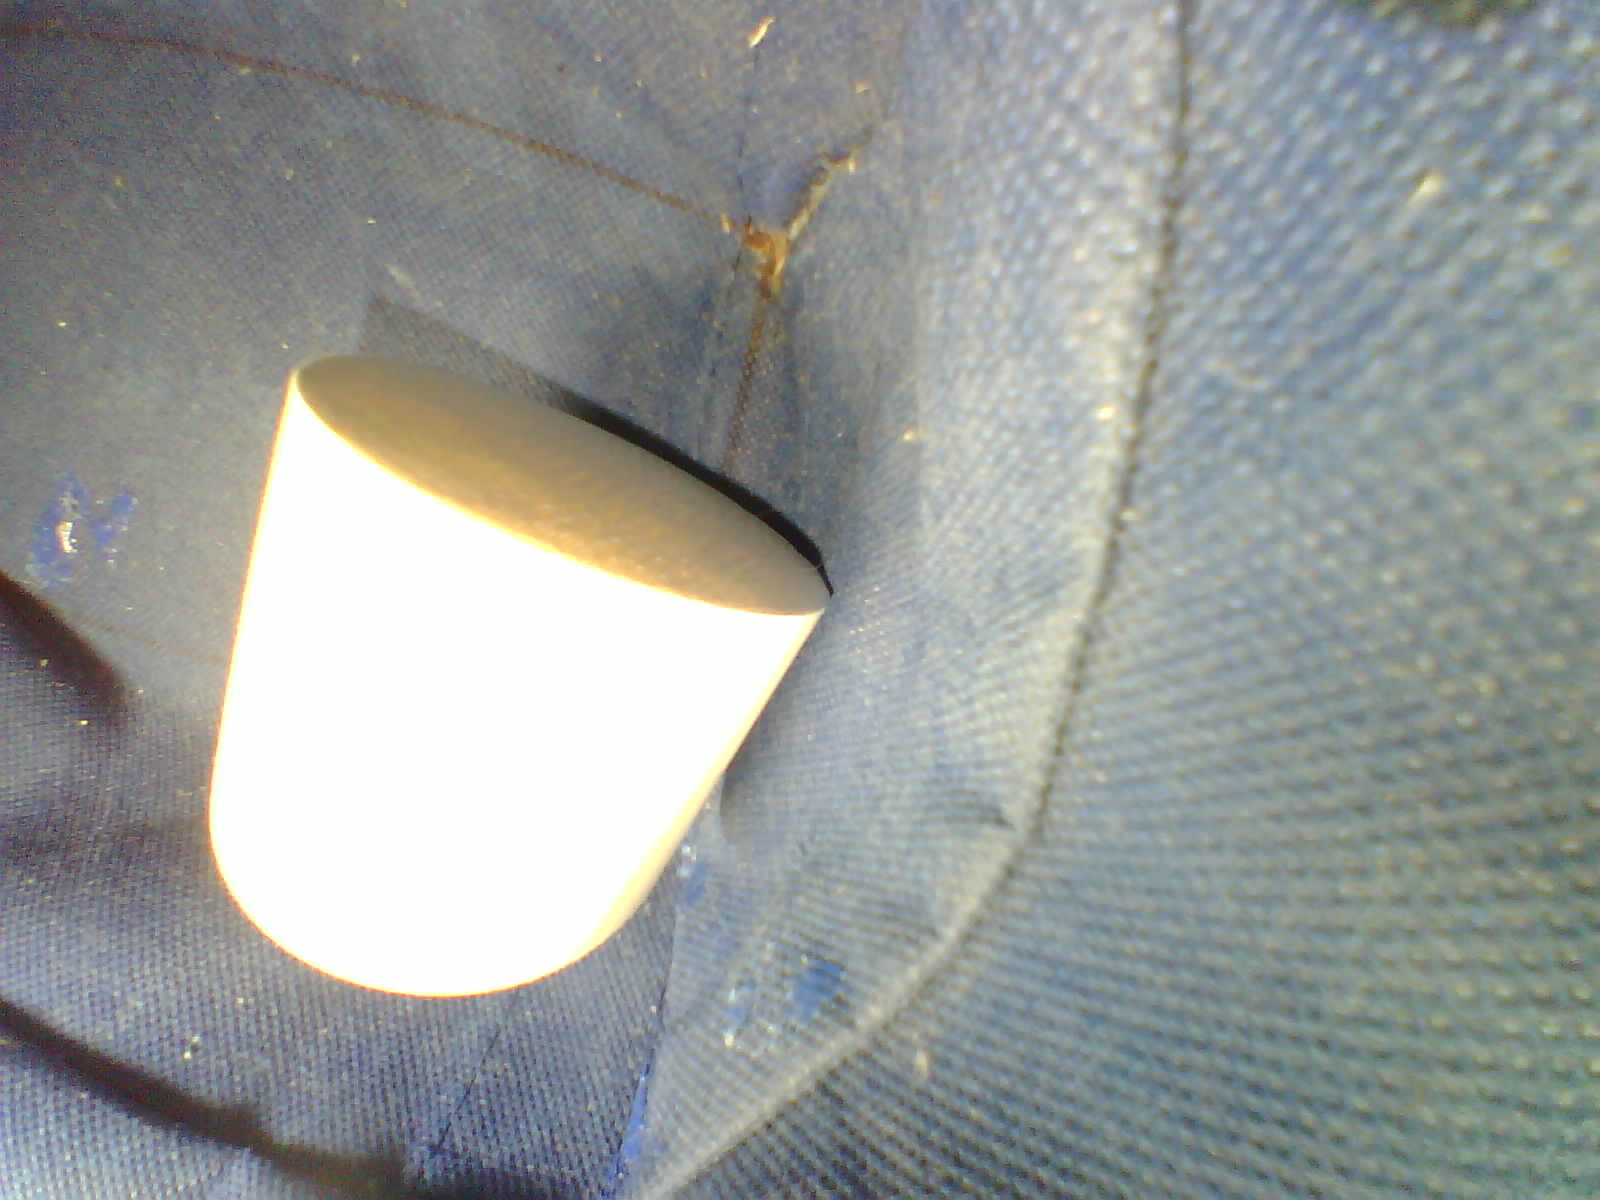cylinder-hard: (184, 339, 844, 1015)
